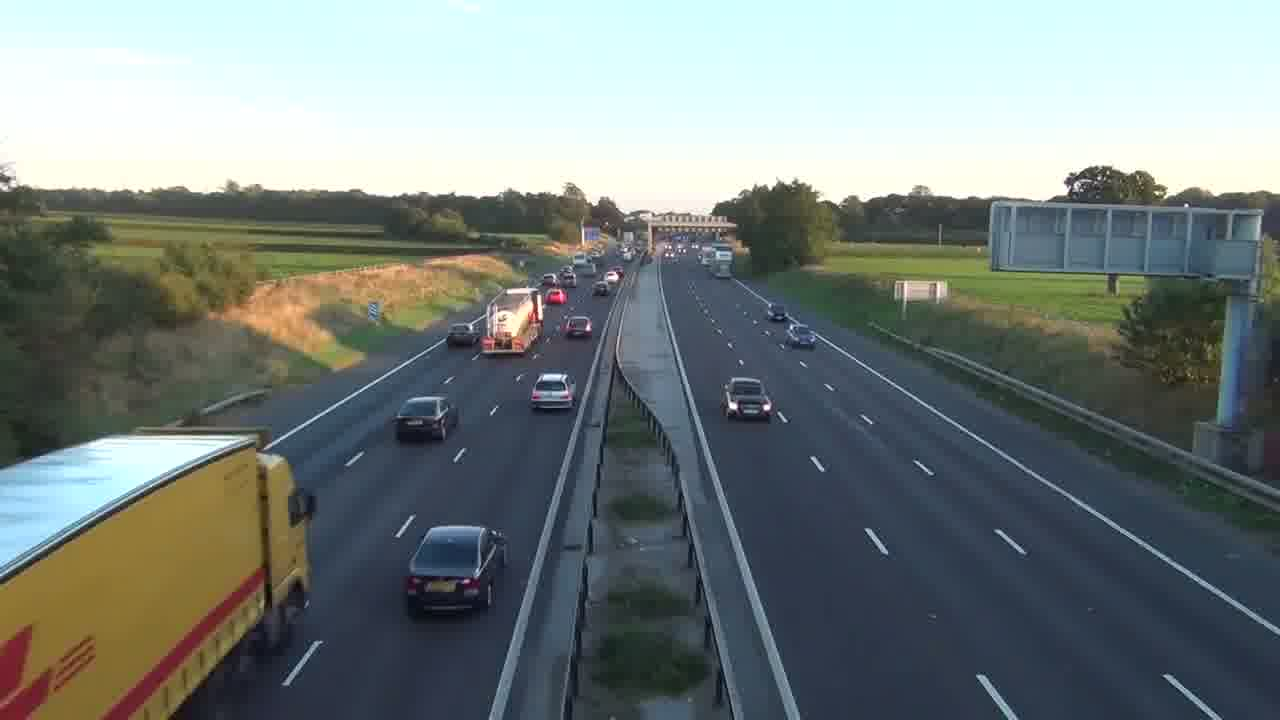bus: (480, 286, 544, 357)
car: (403, 524, 510, 618), (394, 394, 456, 442), (720, 376, 773, 422), (529, 372, 576, 413), (446, 320, 482, 348)
truck: (1, 429, 319, 715), (480, 286, 544, 357)
